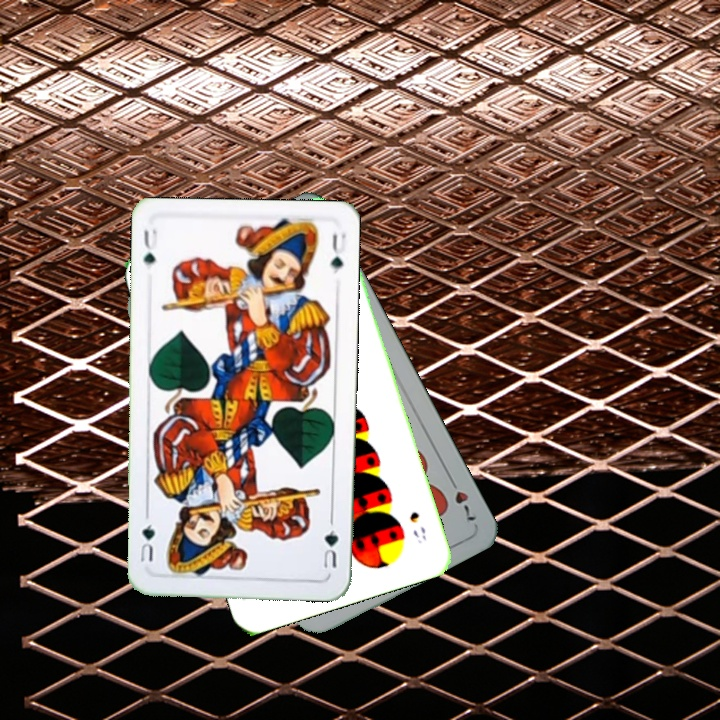GU: (319, 516, 341, 573), (140, 224, 160, 268)
H7: (444, 471, 479, 524)
S8: (405, 507, 429, 546)
